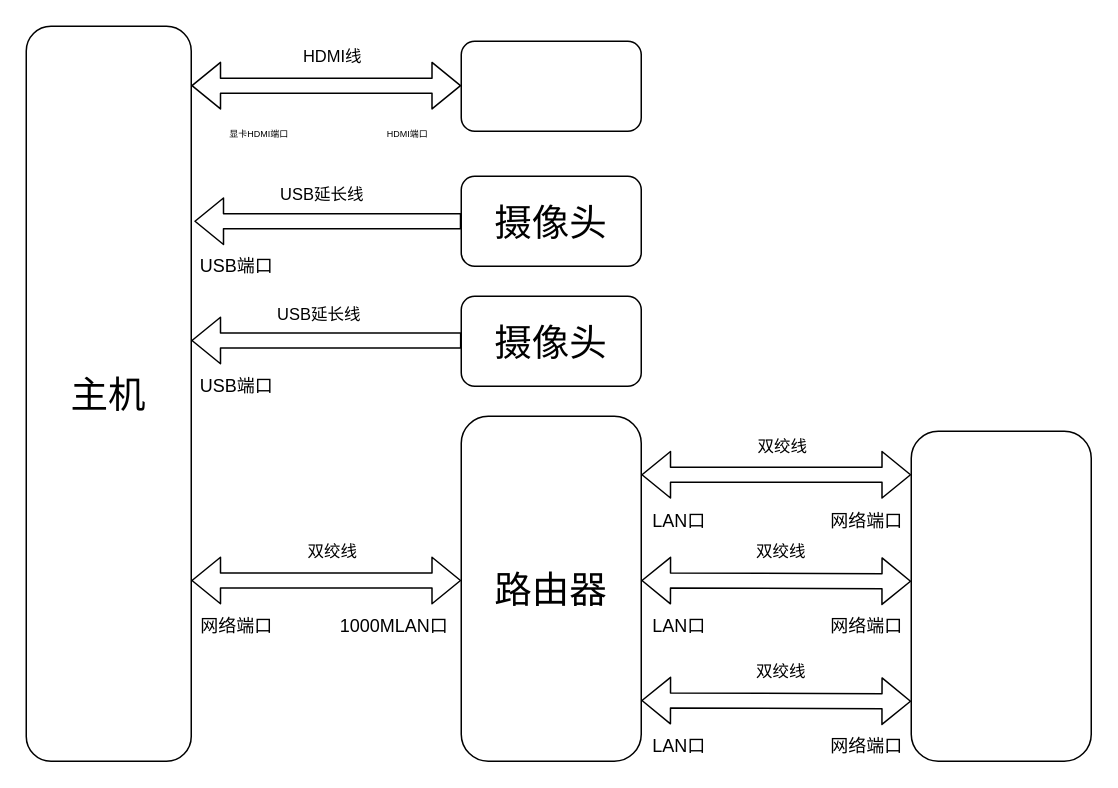
Image size: 1118x788. Some labels were removed from this diagram. The centre of each missing label's shape, as x and y in pixels:
"显示器" belongs at [550,85].
"沙盘总控" belongs at [1000,595].
